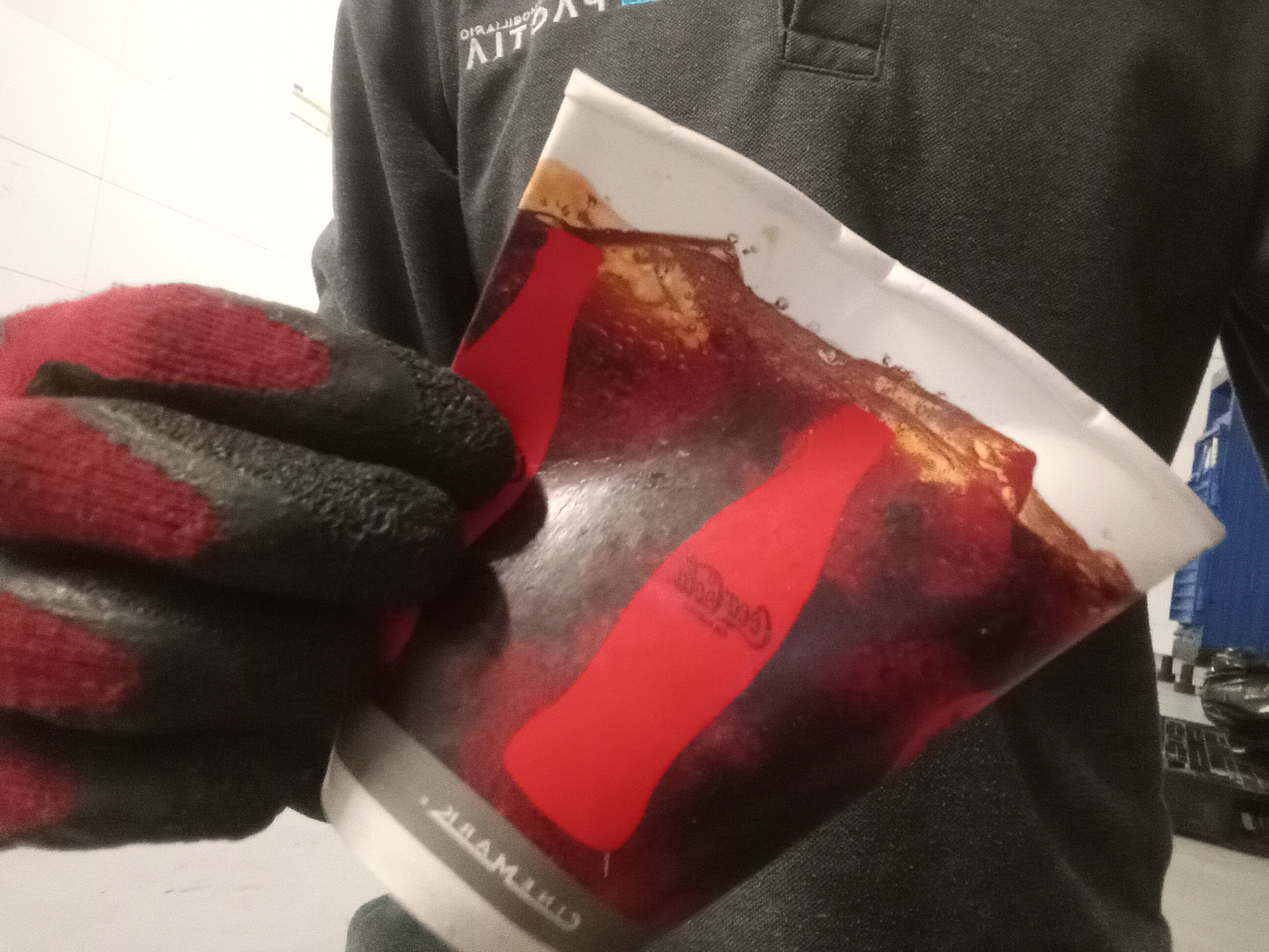Carton: (317, 66, 1217, 952)
